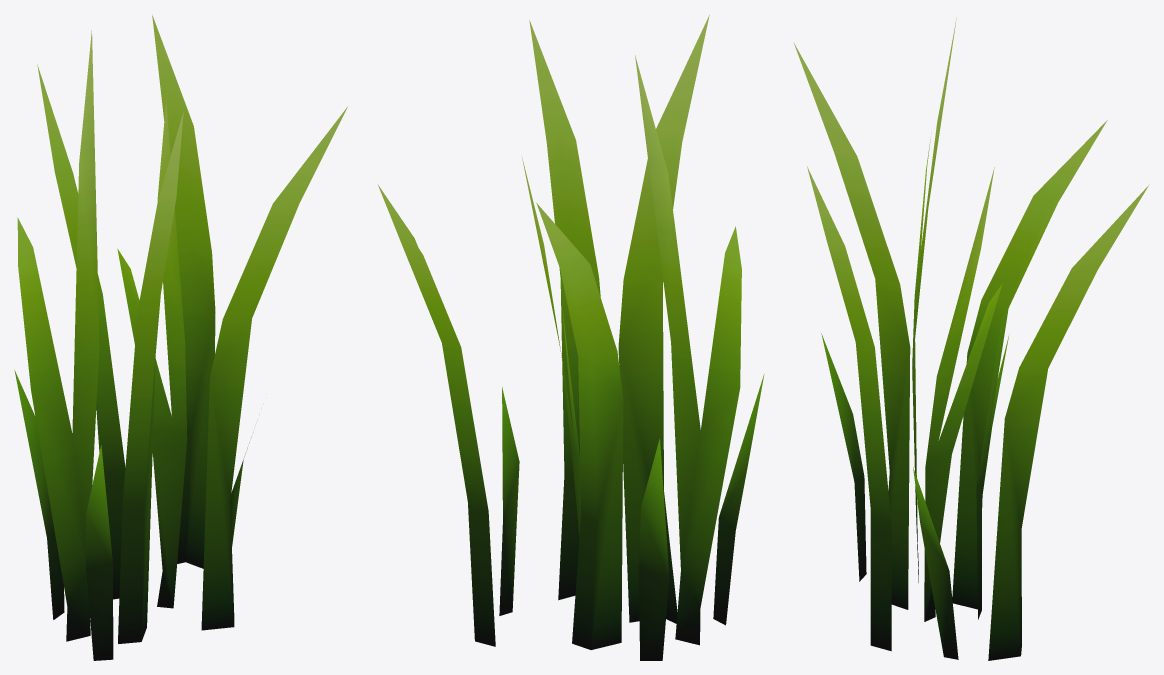
File: Grass_Common_Short.gltf
The picture shows the model from 3 angles, left to right: view 1: azimuth 30°, elevation 25°; view 2: azimuth 150°, elevation 25°; view 3: azimuth 270°, elevation 25°; orthographic projection. The views are drawn at different scales.
Parts seen in each view (by area): view 1: Grass_Common_Short; view 2: Grass_Common_Short; view 3: Grass_Common_Short.
Boxes of the visible parts, bbox=[...] form: Grass_Common_Short: bbox=[14, 15, 347, 660]; Grass_Common_Short: bbox=[378, 15, 764, 660]; Grass_Common_Short: bbox=[793, 18, 1149, 660].
Size of the model in its own units: 0.6388 by 1.33 by 0.7373.
Materials: 1 (1 with a texture image).
